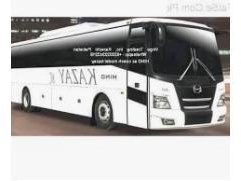bus: (13, 16, 222, 132)
